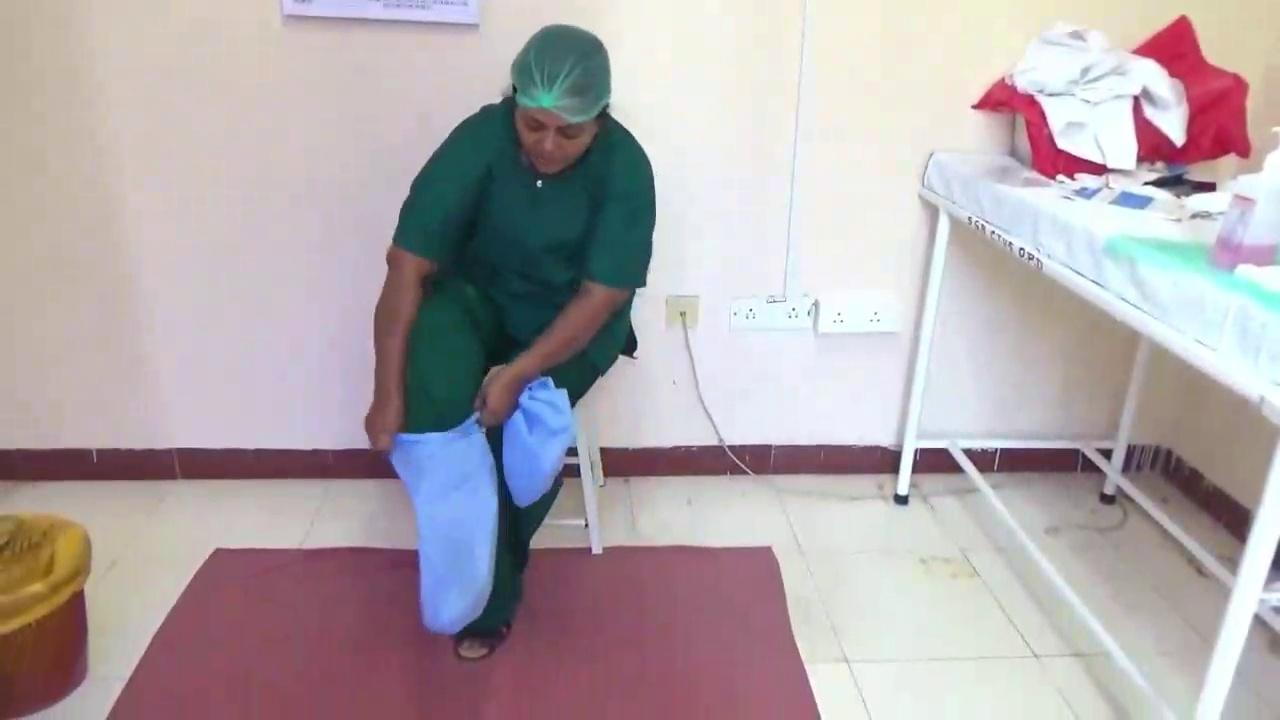Gloves Off: (475, 362, 546, 425), (365, 385, 402, 450)
Goggles off: (515, 108, 600, 139)
Hairnet On: (510, 25, 610, 122)
Mask Off: (520, 138, 590, 175)
Suit On: (392, 98, 655, 432), (470, 428, 560, 631), (548, 300, 630, 404)
